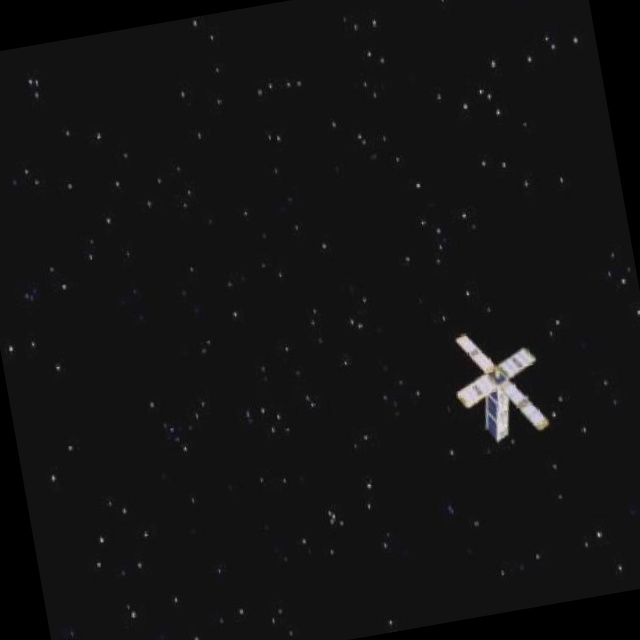medium_debris: (437, 317, 567, 472)
